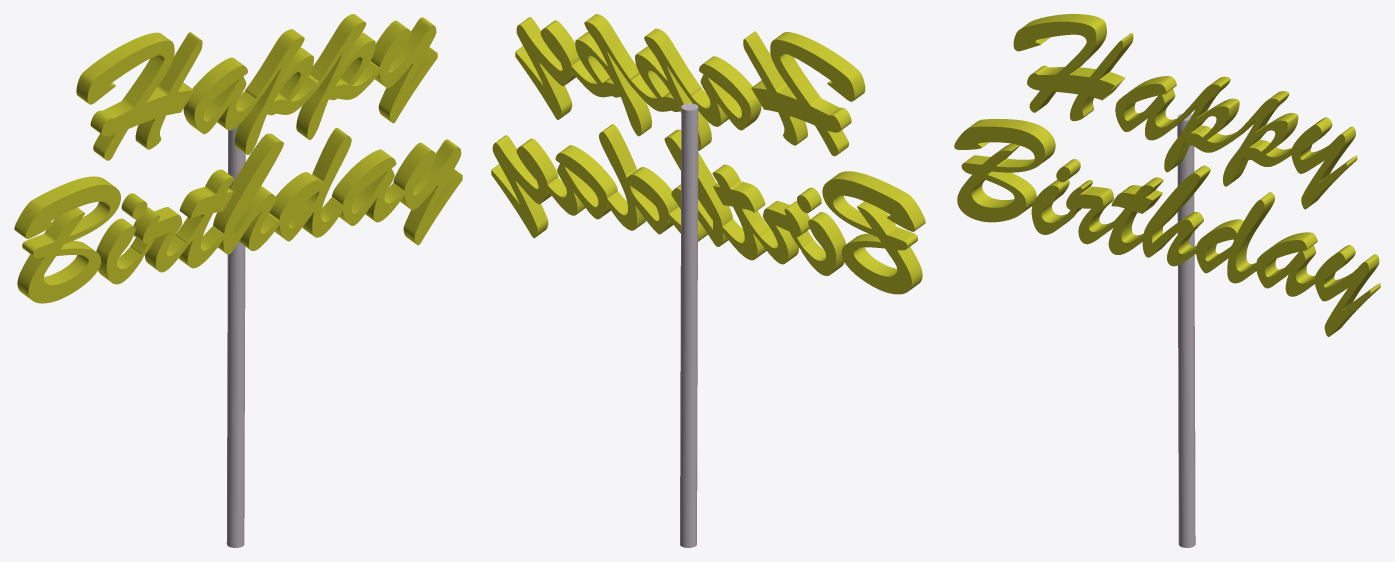
The model's file is birthday_stick1.glb.
3 views of the same model, side by side, from view 1: azimuth 30°, elevation 25°; view 2: azimuth 150°, elevation 25°; view 3: azimuth 330°, elevation 25° (orthographic). The views are drawn at different scales.
Parts seen in each view (by area): view 1: Text.001, Text, Cylinder; view 2: Text.001, Text, Cylinder; view 3: Text.001, Text, Cylinder.
Part boxes in pixels (box(x1,y1,x2,y2)): Text.001: box(14, 128, 462, 303); Text: box(76, 14, 437, 160); Cylinder: box(226, 92, 245, 547); Text.001: box(491, 124, 925, 294); Text: box(515, 14, 865, 156); Cylinder: box(680, 103, 698, 547); Text.001: box(954, 119, 1380, 336); Text: box(1013, 14, 1357, 209); Cylinder: box(1177, 113, 1195, 547).
Bounding box in the file's own units: 0.9107 × 1.07 × 0.0784.
